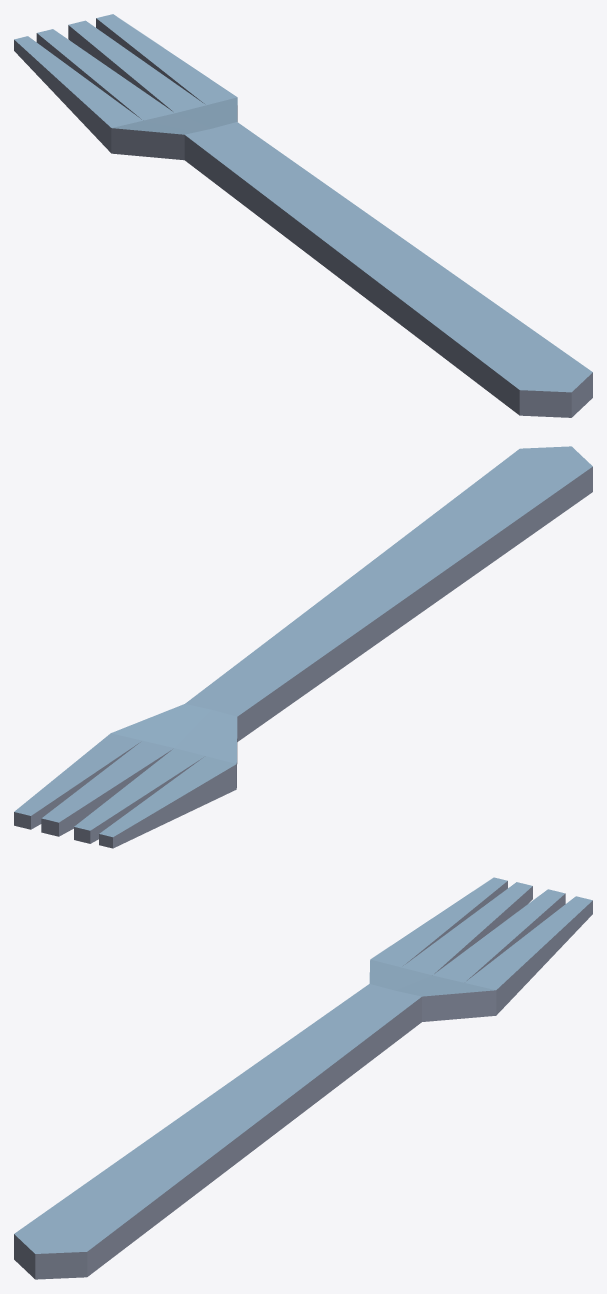
The model's file is Fork.fbx.
3 renders of one model, top to bottom at view 1: azimuth 30°, elevation 25°; view 2: azimuth 150°, elevation 25°; view 3: azimuth 330°, elevation 25°, orthographic.
Parts seen in each view (by area): view 1: Fork; view 2: Fork; view 3: Fork.
Boxes of the visible parts, x1,y1,x2,y2 form: Fork: [14, 14, 592, 417]; Fork: [14, 446, 592, 848]; Fork: [14, 877, 592, 1279].
Bounding box in the file's own units: 7.82 × 2.2 × 54.54.
